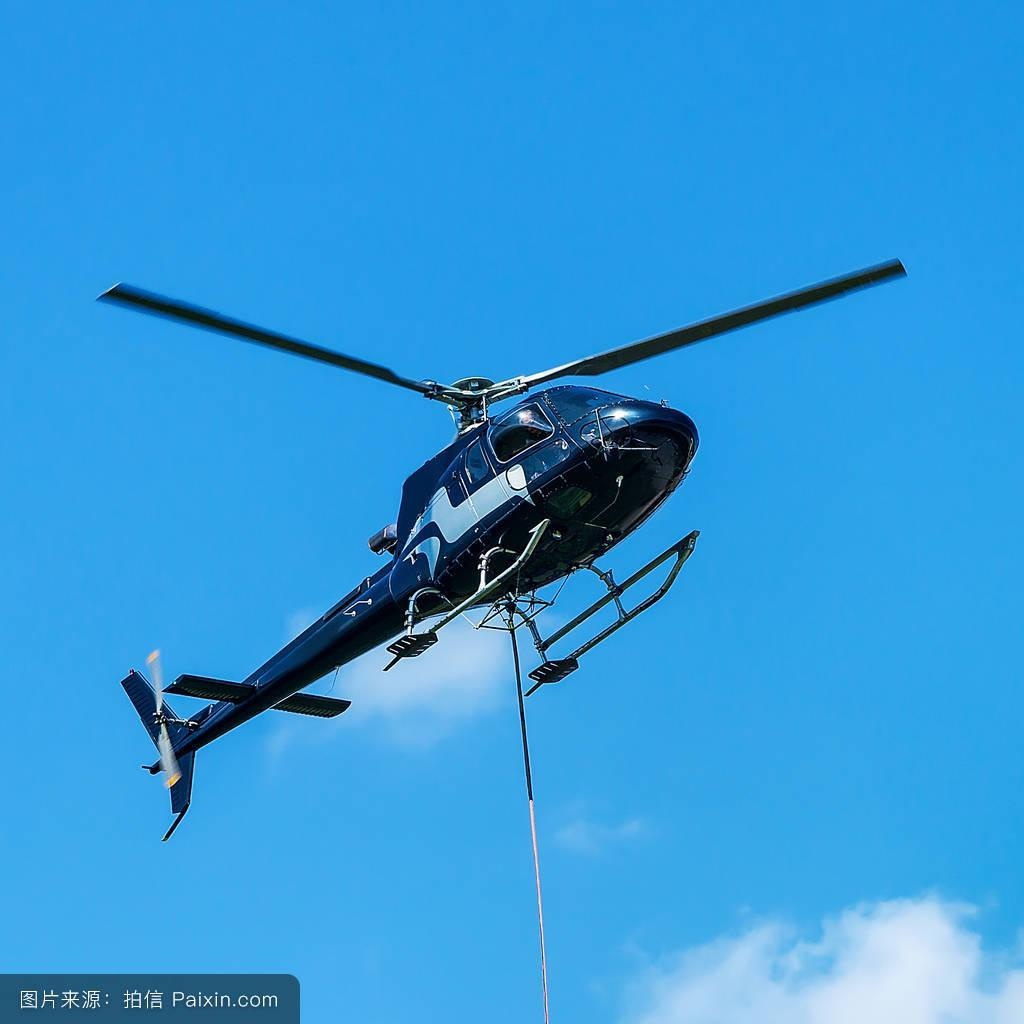airplane: (77, 226, 933, 823)
